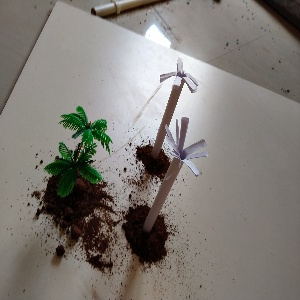plant: (43, 105, 107, 216)
weed: (156, 119, 212, 236), (143, 54, 195, 167)
